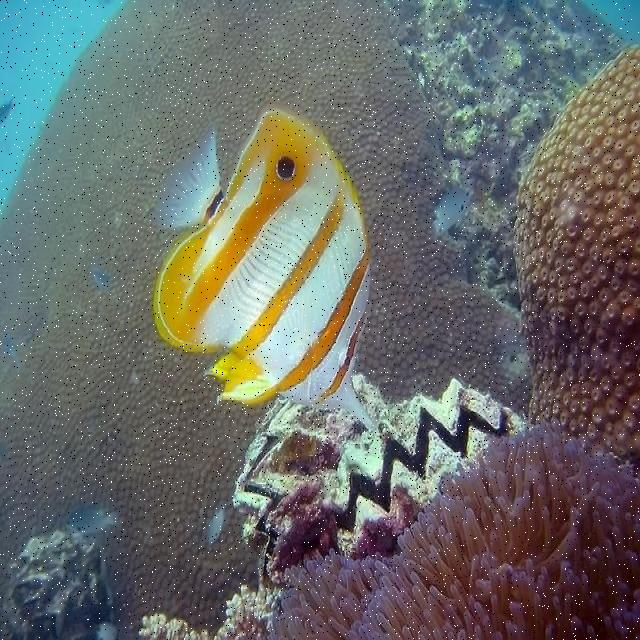fish: (149, 108, 372, 435)
reefs: (276, 428, 639, 639), (516, 43, 638, 457)
sea-floor: (232, 375, 528, 592)
